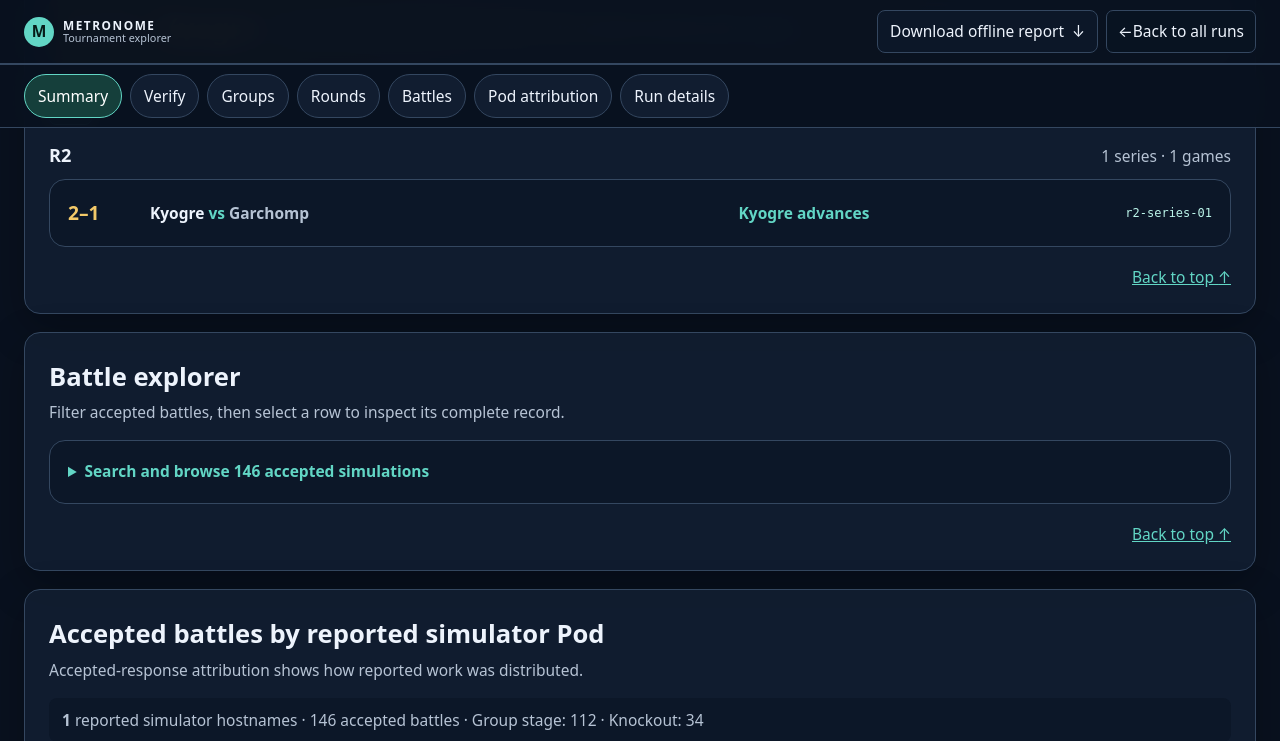
it: standings and battles can retry an unchanged failed query after a transient outage
(page scrolled)
Click the heading "Search and browse 146 accepted simulations" at (257, 472), box [84,460,429,482]
(page scrolled)
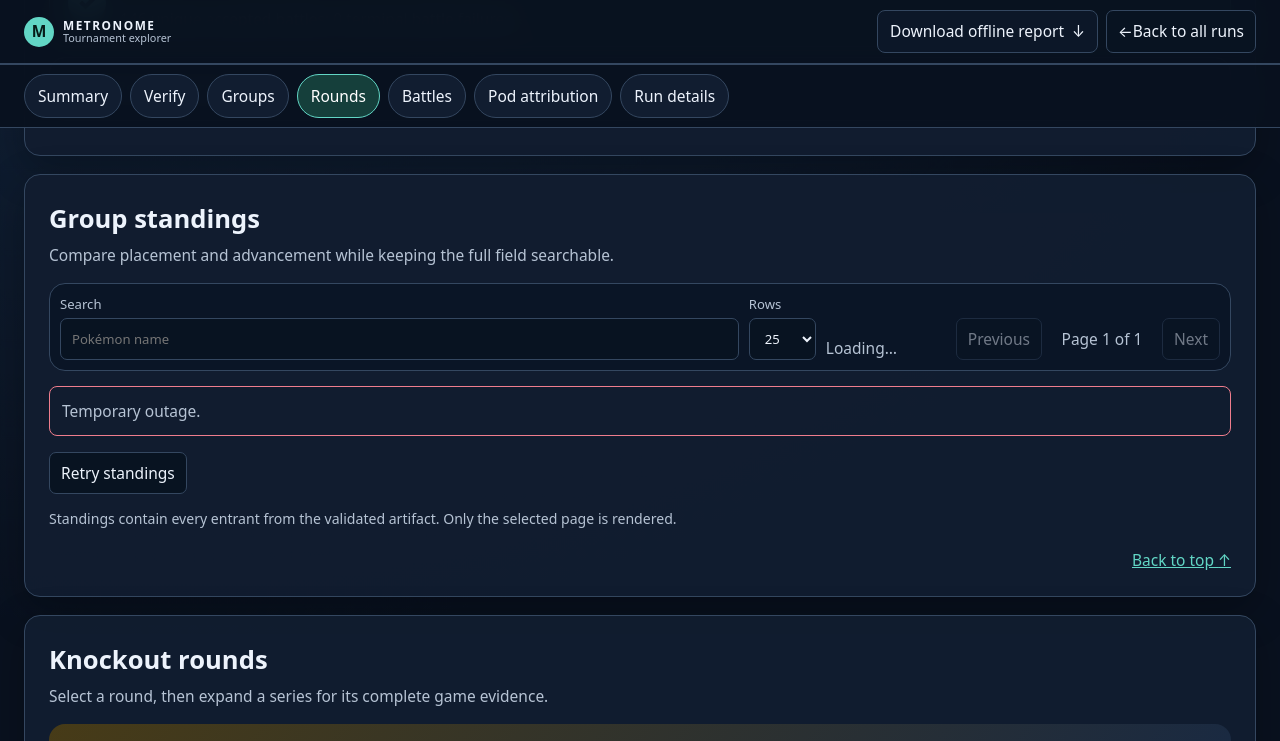
Click the button "Retry standings" at (118, 473), box [49,452,187,494]
(page scrolled)
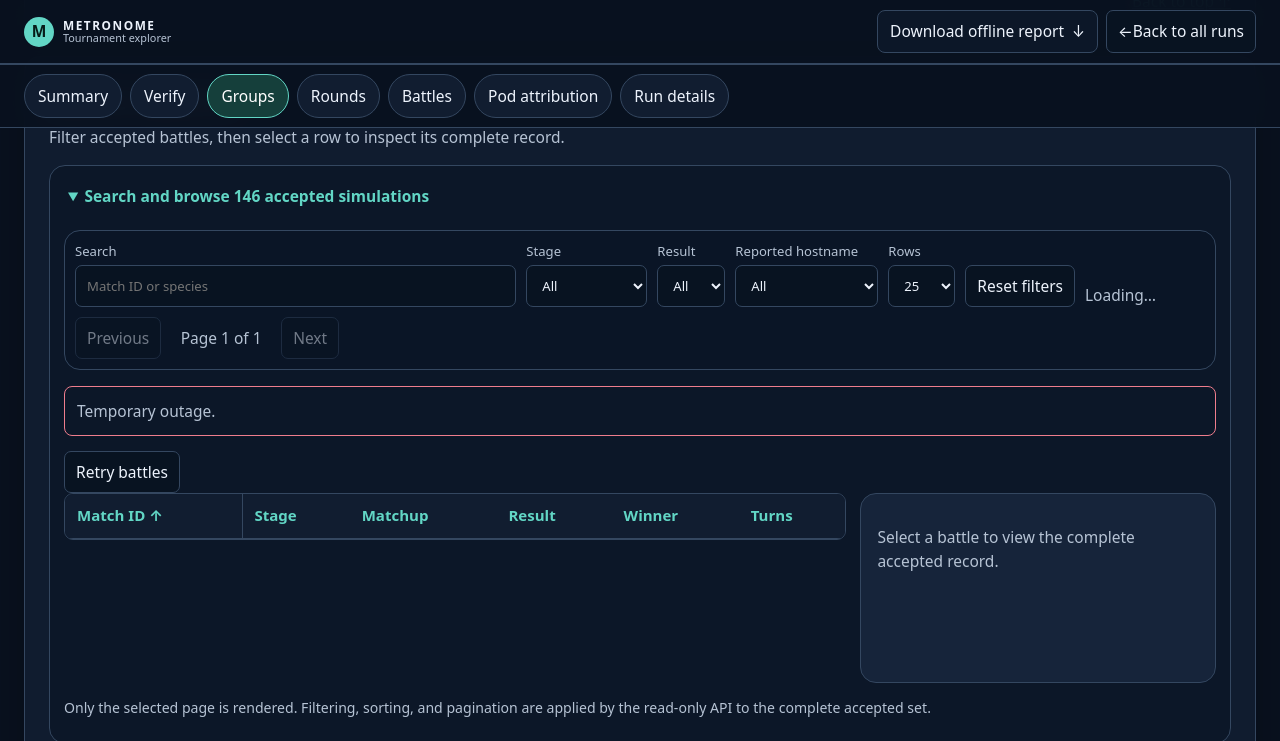
Now the button "Retry standings" is gone
Click the button "Retry battles" at (122, 472), box [64,451,180,493]
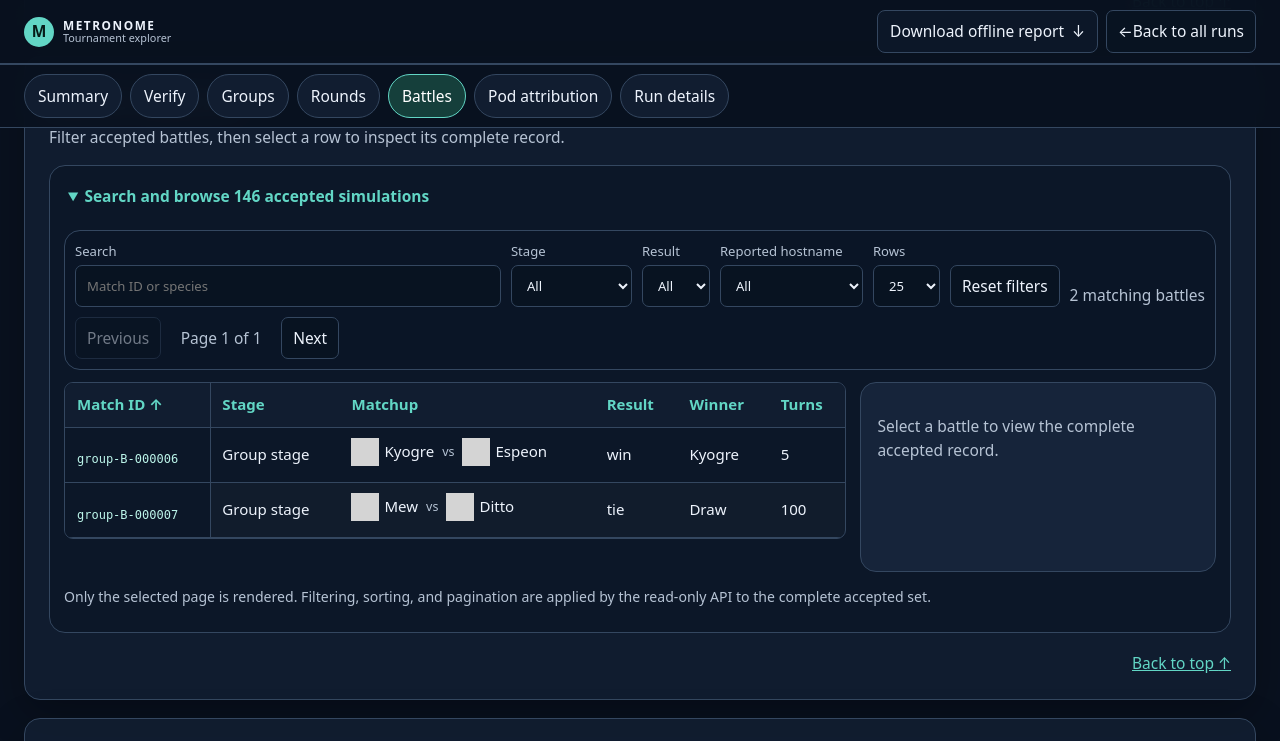
Now the button "Retry battles" is gone
